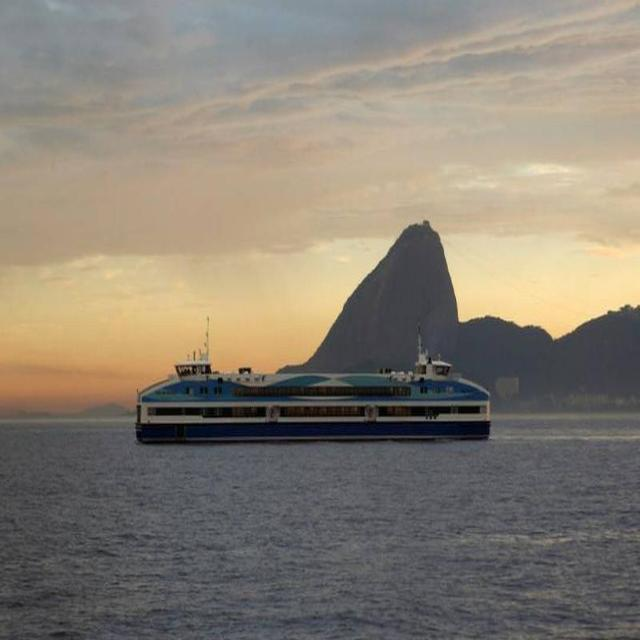Passenger: (136, 343, 491, 443)
